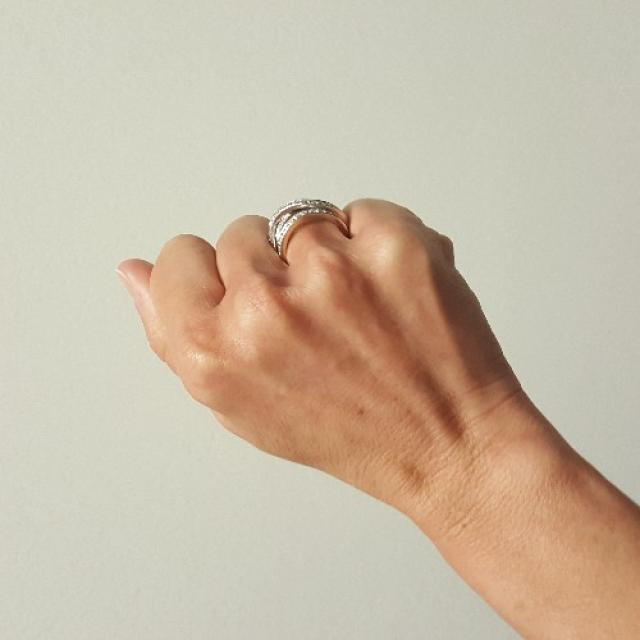fist: (105, 181, 543, 494)
